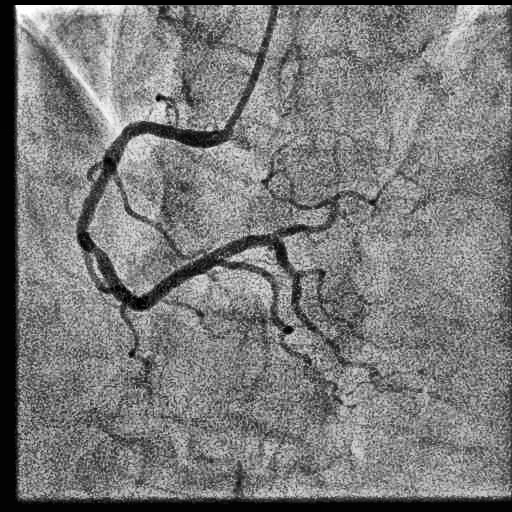pborca: (211, 234, 377, 374)
pda: (215, 260, 306, 360)
rca: (76, 121, 213, 311)
